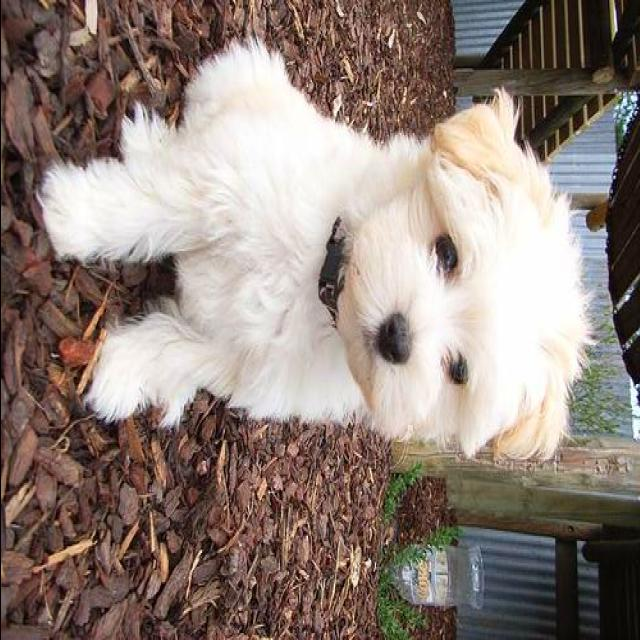maltese_dog: (36, 38, 600, 466)
